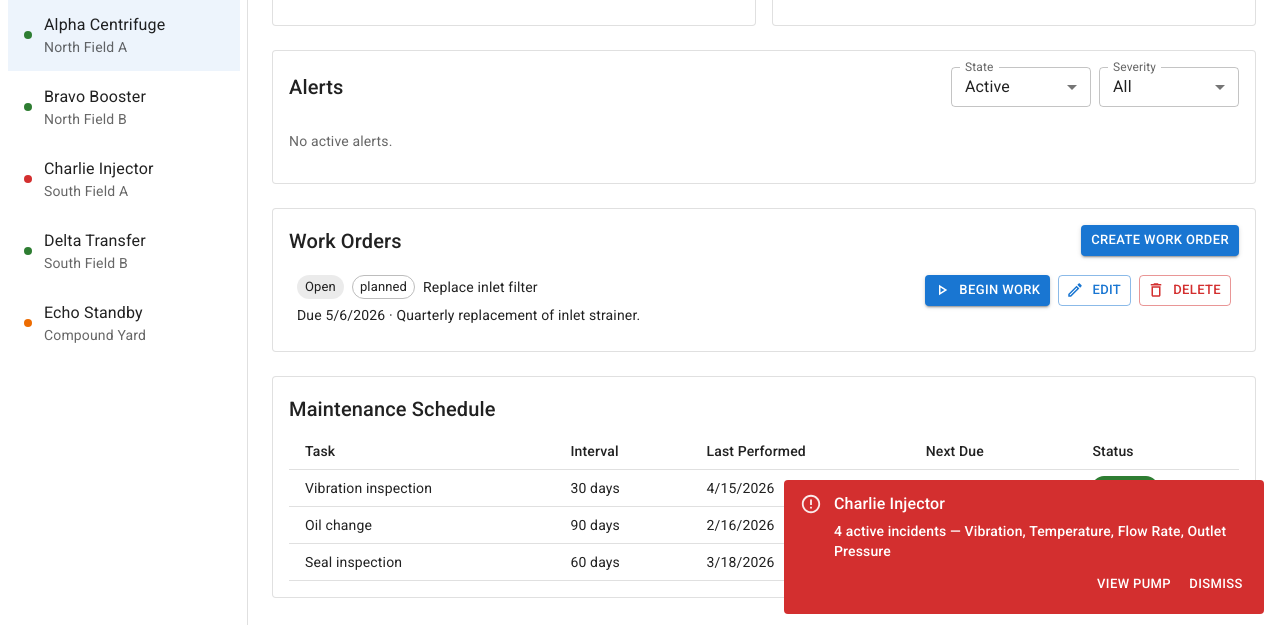
Test: Fleet integration › creates a work order from the detail page
(page scrolled)
Click the button "Create Work Order" at (1160, 241), box left=1081, top=225, right=1239, bottom=256
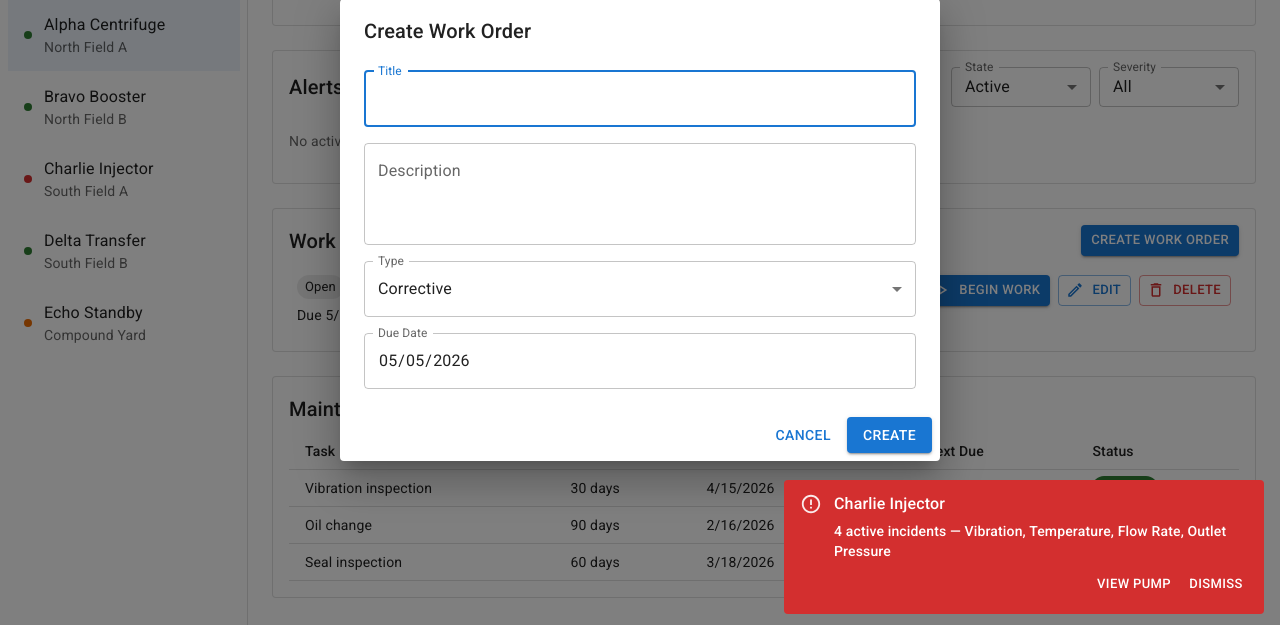
Type "New inspection" into the field named "wo-title" at (640, 99), box left=364, top=71, right=916, bottom=127
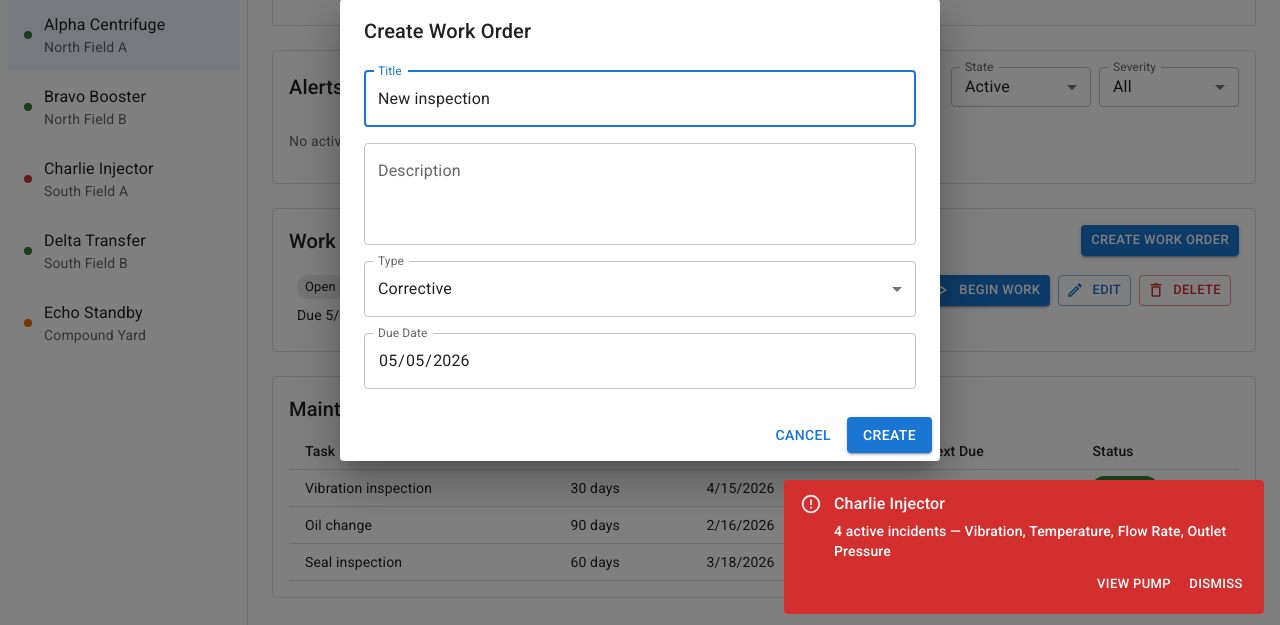
Click the button "Create" at (889, 435), box left=847, top=417, right=932, bottom=453
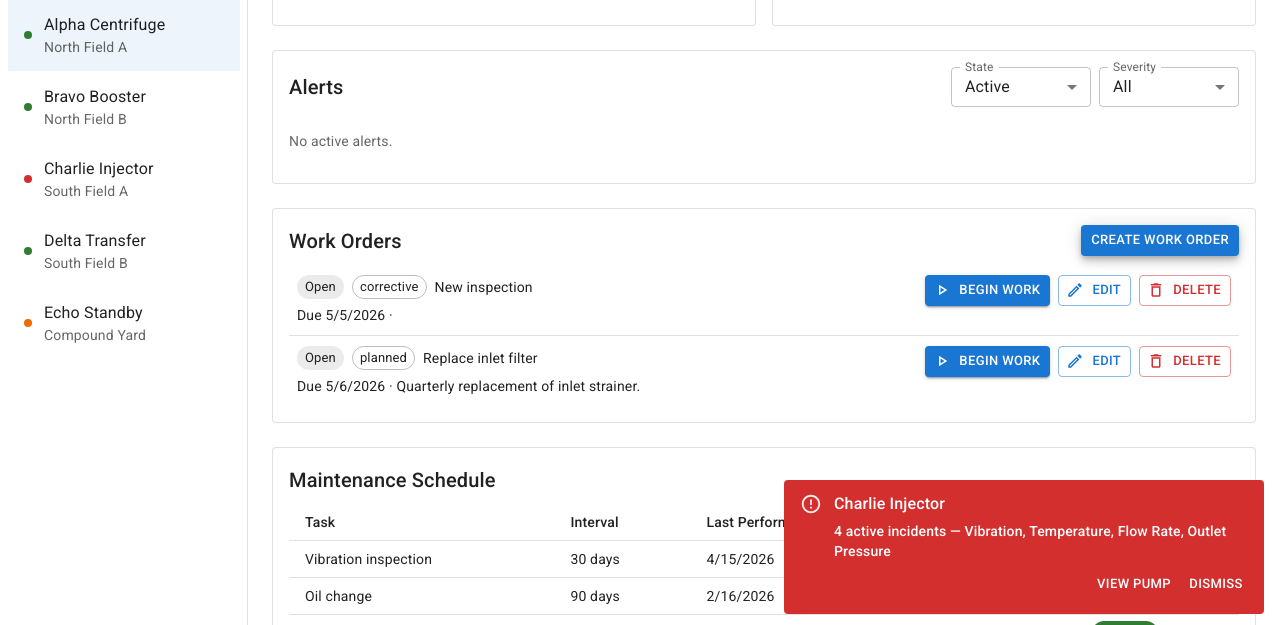
Now the text "New inspection" is shown, box left=435, top=277, right=533, bottom=297
